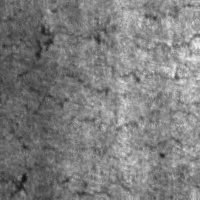crazing: (60, 14, 195, 99), (6, 62, 130, 151), (64, 108, 200, 158), (26, 13, 134, 61)
